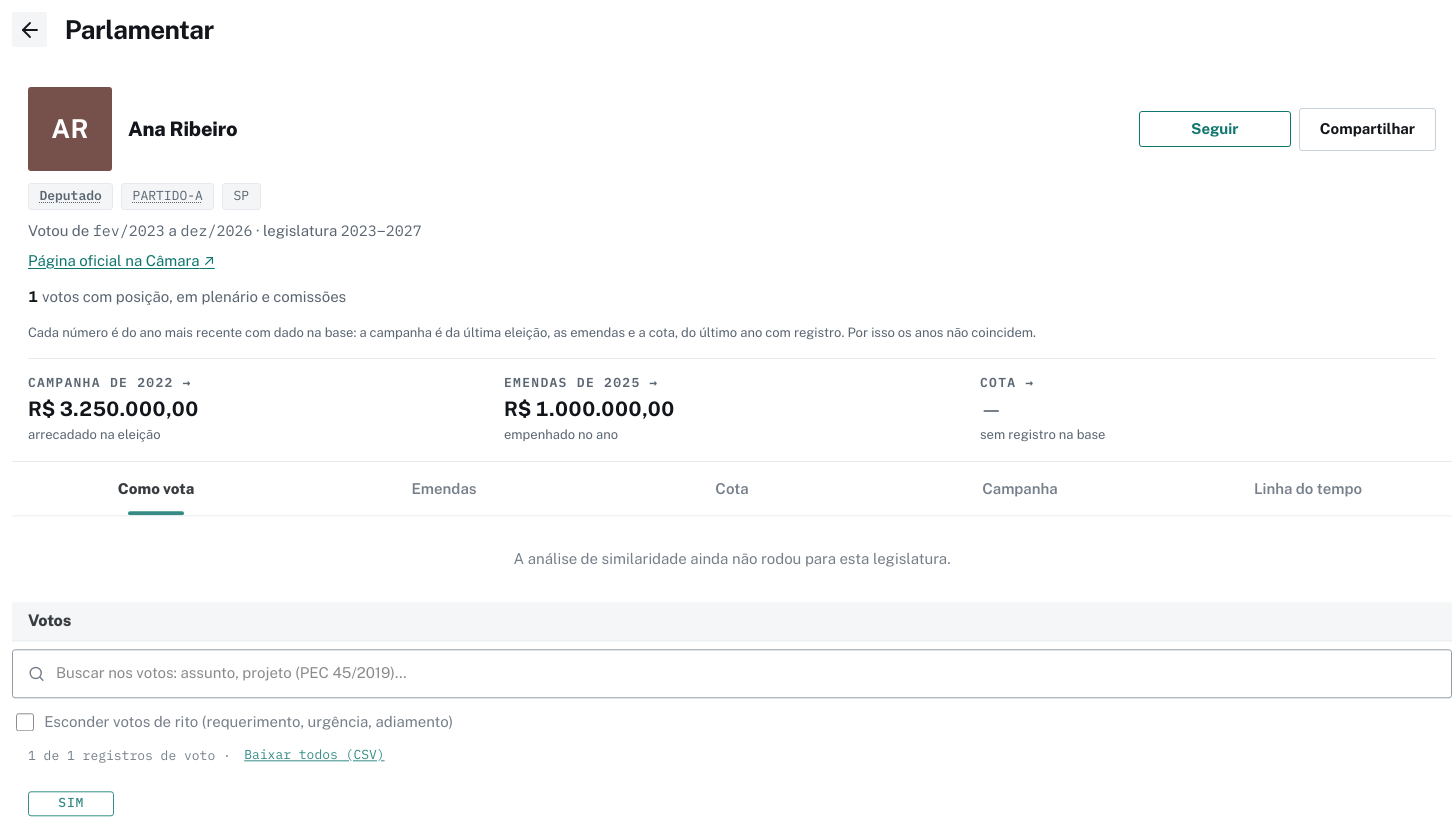
Test case: listas da ficha em páginas › votos: busca sem resultado diz onde procurou
Type "xyz" into the search field labelled "Buscar nos votos" at (746, 673), box 56,651 -> 1437,695
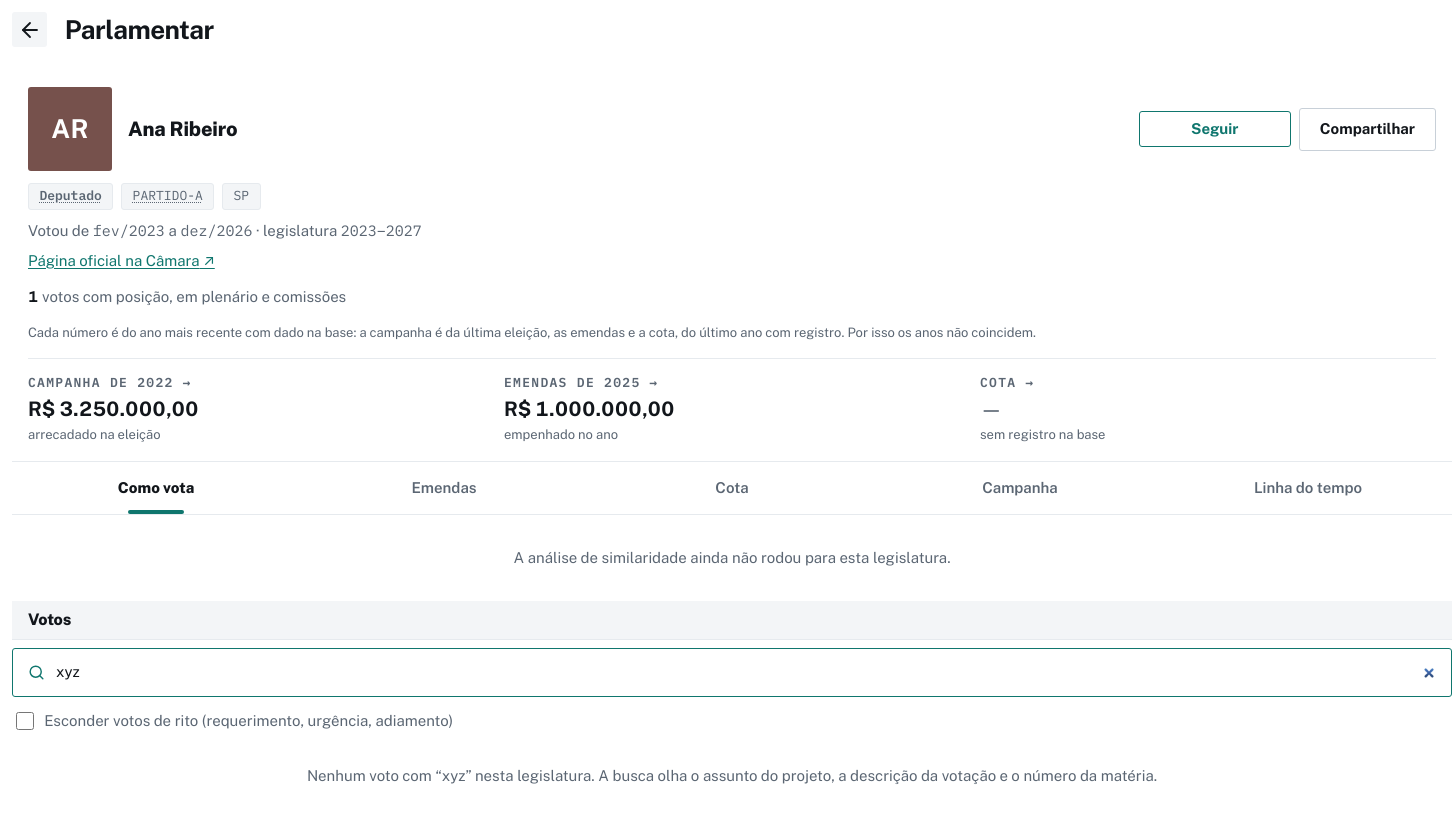
Result: the text "Nenhum voto com “xyz” nesta legislatura" is shown at 307,767 -> 1157,784
